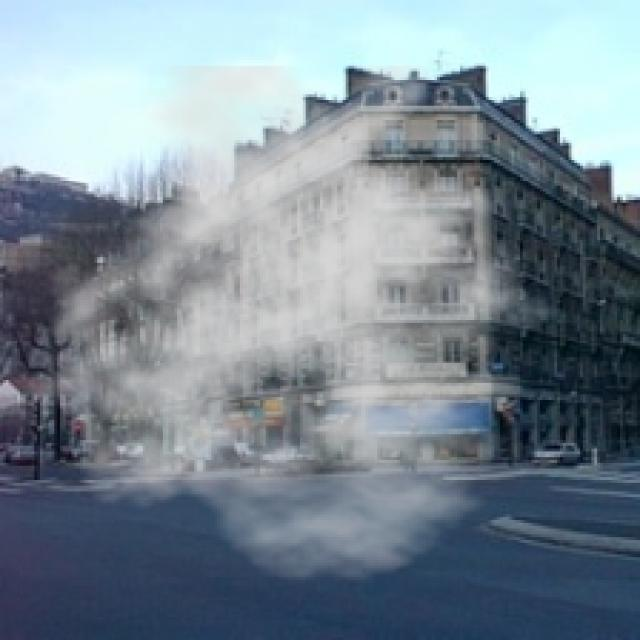Smoke: (23, 66, 586, 583)
